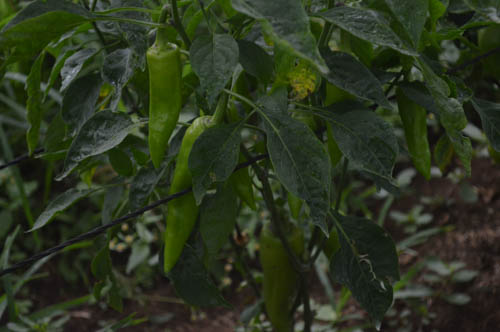ChiliPepper: (159, 117, 220, 269), (261, 228, 308, 330), (144, 49, 181, 170), (400, 85, 440, 179)
